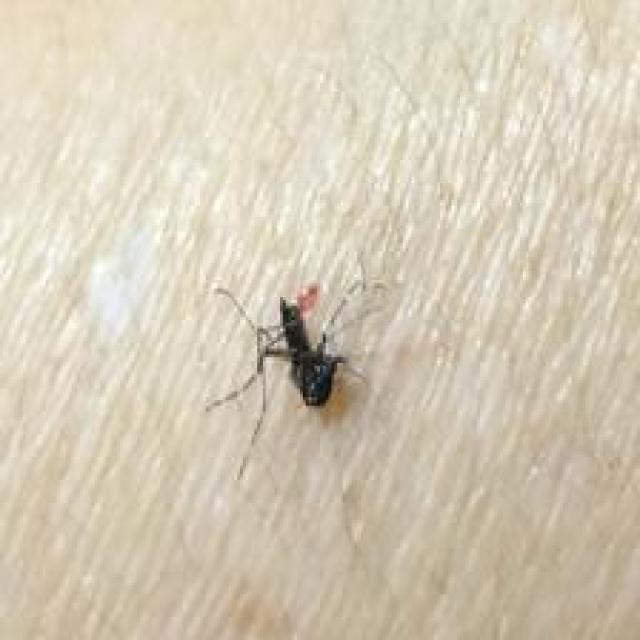Aedes albopictus: (203, 256, 386, 481)
